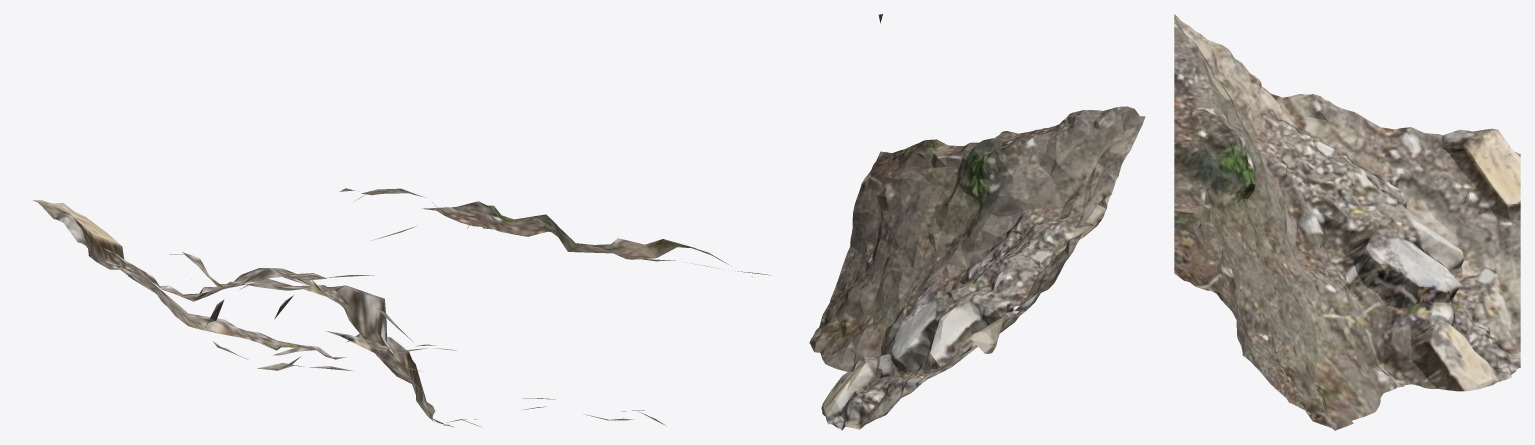
3 views of the same model, side by side, from view 1: azimuth 30°, elevation 25°; view 2: azimuth 150°, elevation 25°; view 3: azimuth 270°, elevation 25° (orthographic). The views are drawn at different scales.
Bounding box in the file's own units: 2.95 × 2.95 × 2.95.
3 materials, 3 textured.
